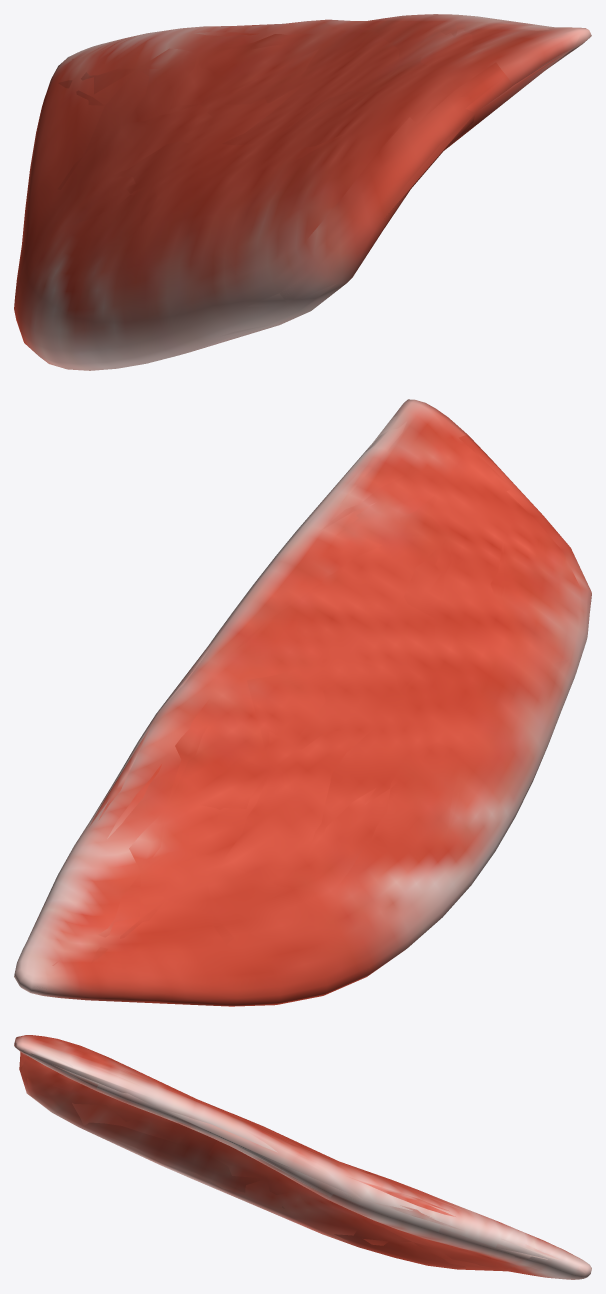
Rendered from R Rhomboideus Thoracis.fbx.
3 renders of one model, top to bottom at view 1: azimuth 30°, elevation 25°; view 2: azimuth 150°, elevation 25°; view 3: azimuth 270°, elevation 25°, orthographic. The views are drawn at different scales.
Parts seen in each view (by area): view 1: R Rhomboideus Thoracis, R Rhomboideus Thoracis low; view 2: R Rhomboideus Thoracis, R Rhomboideus Thoracis low; view 3: R Rhomboideus Thoracis, R Rhomboideus Thoracis low.
Boxes of the visible parts, <box> form: R Rhomboideus Thoracis: <box>14,14,591,370</box>; R Rhomboideus Thoracis low: <box>19,16,580,350</box>; R Rhomboideus Thoracis: <box>14,399,591,1006</box>; R Rhomboideus Thoracis low: <box>15,403,587,1005</box>; R Rhomboideus Thoracis: <box>14,1035,591,1279</box>; R Rhomboideus Thoracis low: <box>14,1037,585,1274</box>.
Bounding box in the file's own units: 10.4 × 13.72 × 26.1.
